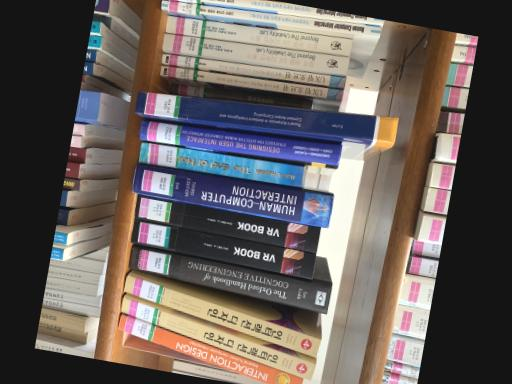book-spine: (123, 274, 320, 358), (119, 296, 316, 380), (128, 247, 331, 314), (116, 315, 303, 384), (134, 93, 398, 141), (132, 166, 333, 226), (128, 219, 316, 279), (133, 195, 320, 251), (138, 121, 341, 166), (165, 15, 351, 57), (160, 1, 380, 36), (161, 34, 349, 73), (138, 143, 304, 186), (160, 53, 345, 88), (159, 66, 342, 100), (178, 0, 383, 25), (168, 84, 312, 108)
